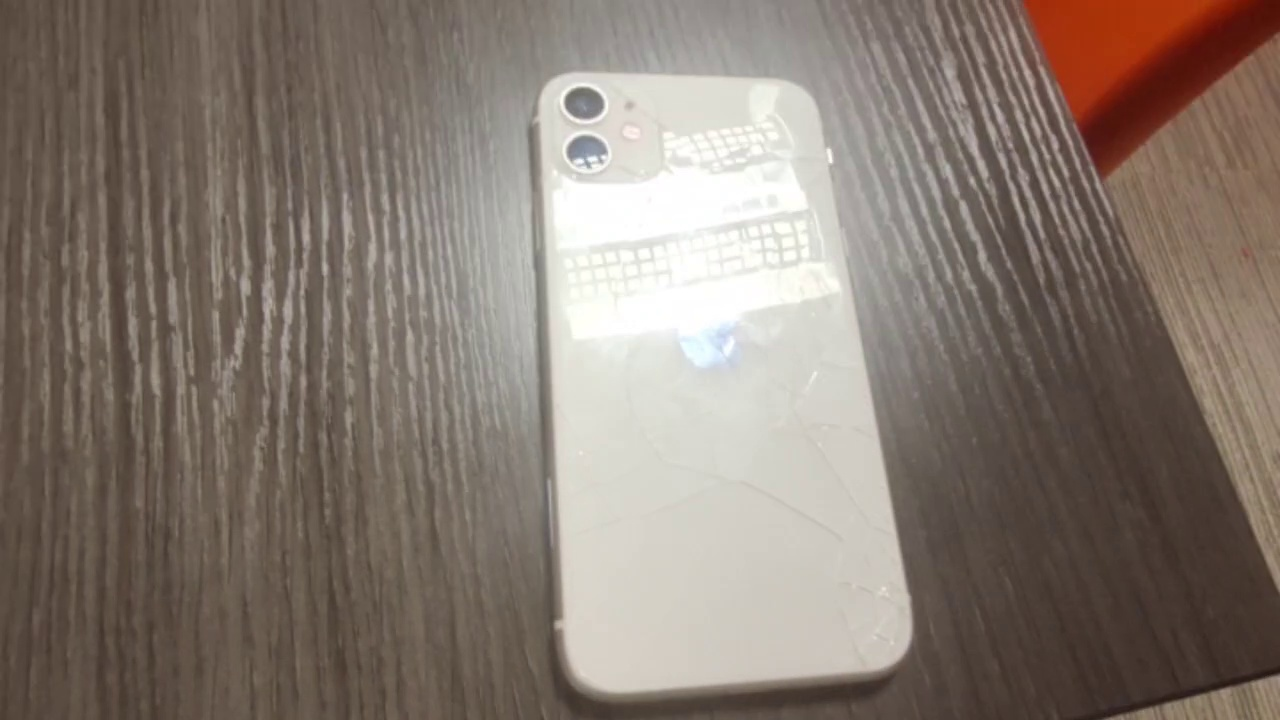celular: (527, 70, 912, 699)
